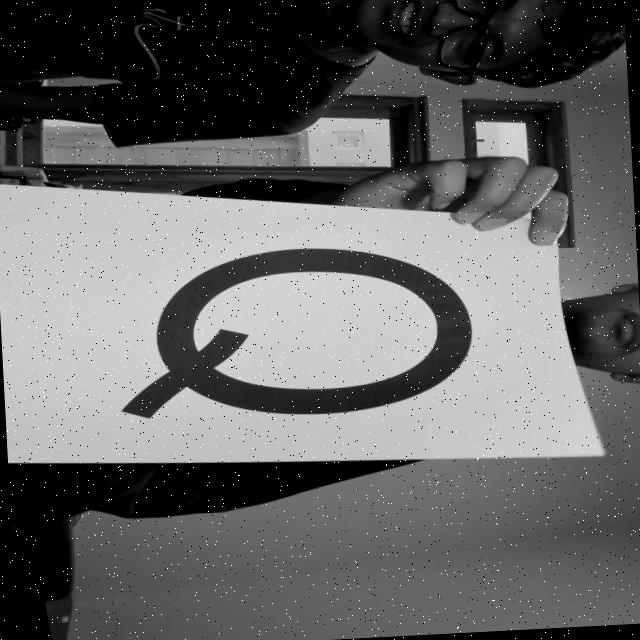q: (97, 230, 487, 442)
